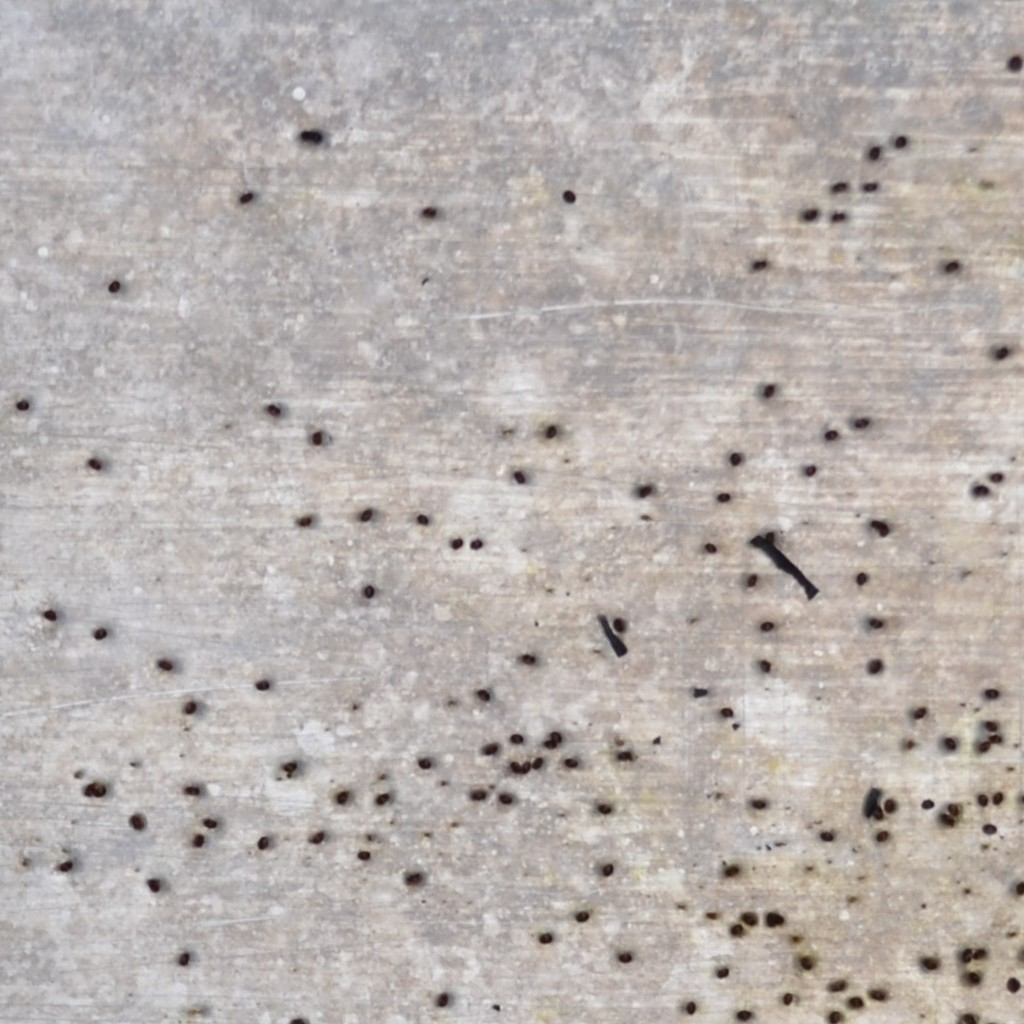varroa: (512, 467, 527, 491), (1006, 54, 1023, 75), (941, 260, 962, 276), (854, 569, 870, 590), (310, 427, 325, 449), (106, 277, 122, 297), (992, 344, 1010, 361), (359, 505, 373, 526), (561, 188, 578, 205), (892, 132, 910, 148), (415, 510, 430, 529), (86, 457, 106, 471), (830, 209, 847, 225), (989, 468, 1005, 485), (362, 584, 378, 600), (803, 207, 819, 223), (970, 483, 989, 496), (470, 537, 484, 554), (451, 537, 465, 554), (543, 424, 557, 441), (853, 415, 870, 429), (868, 146, 882, 162), (15, 398, 29, 413), (862, 180, 879, 192), (830, 181, 850, 190)
